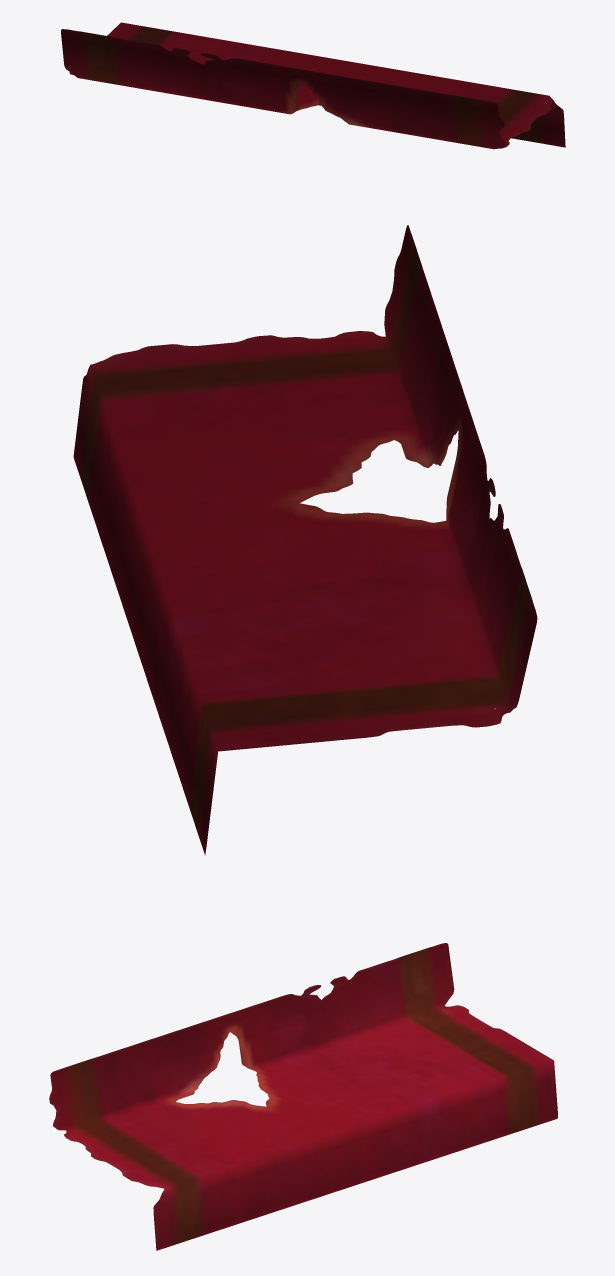
File: Props_M4.fbx
3 views of the same model, one above another, from view 1: azimuth 30°, elevation 25°; view 2: azimuth 150°, elevation 25°; view 3: azimuth 270°, elevation 25° (orthographic). The views are drawn at different scales.
Parts seen in each view (by area): view 1: Props_M4__3_; view 2: Props_M4__3_; view 3: Props_M4__3_.
Boxes of the visible parts, left/top/right/bottom form: Props_M4__3_: left=61, top=22, right=565, bottom=149; Props_M4__3_: left=73, top=225, right=537, bottom=855; Props_M4__3_: left=49, top=943, right=557, bottom=1250.
Size of the model in its own units: 0.2664 by 0.0672 by 0.3048.
